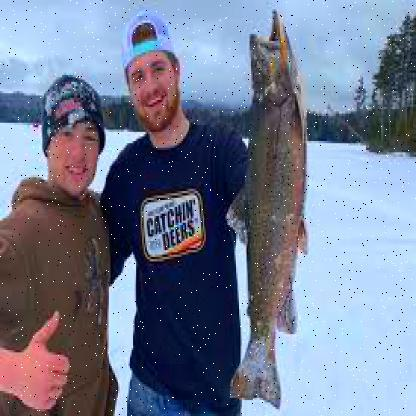fish: (216, 11, 308, 410)
